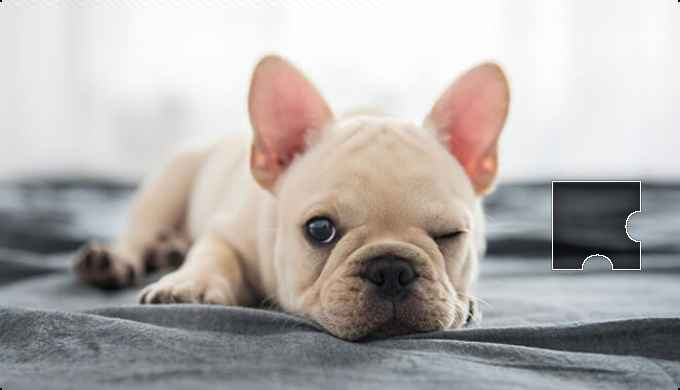gap: (553, 180, 641, 271)
